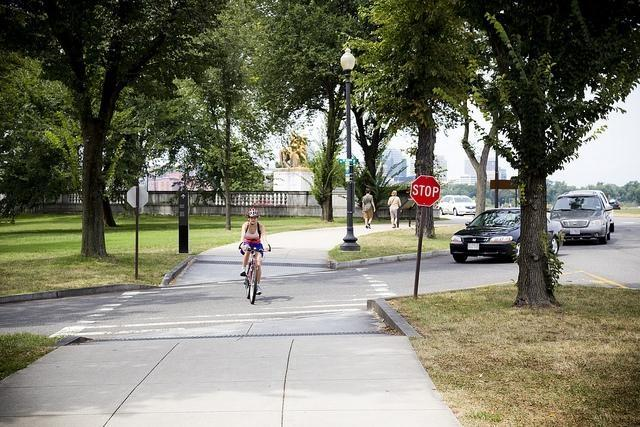bicycle: (236, 244, 274, 307)
car: (449, 209, 564, 265), (550, 189, 616, 242), (438, 194, 476, 216), (610, 199, 620, 208)
